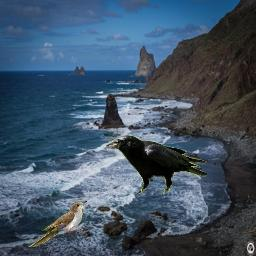Crow: (104, 135, 207, 194)
Cuckoo: (28, 200, 87, 247)
